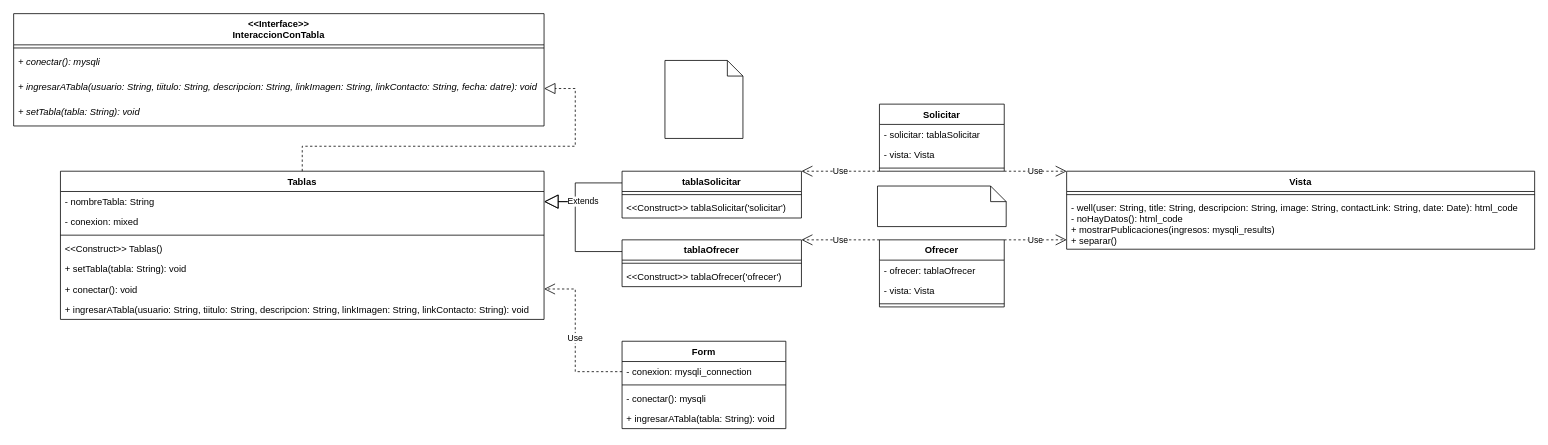
Some shapes in this 1548 by 445 pixel diagram are drawn without their labels. Each missing label, with the centre of its shape:
Drivers: 1 por página del sitio: the point at 941,206
Modelo de clases para las tablas: the point at 703,99
